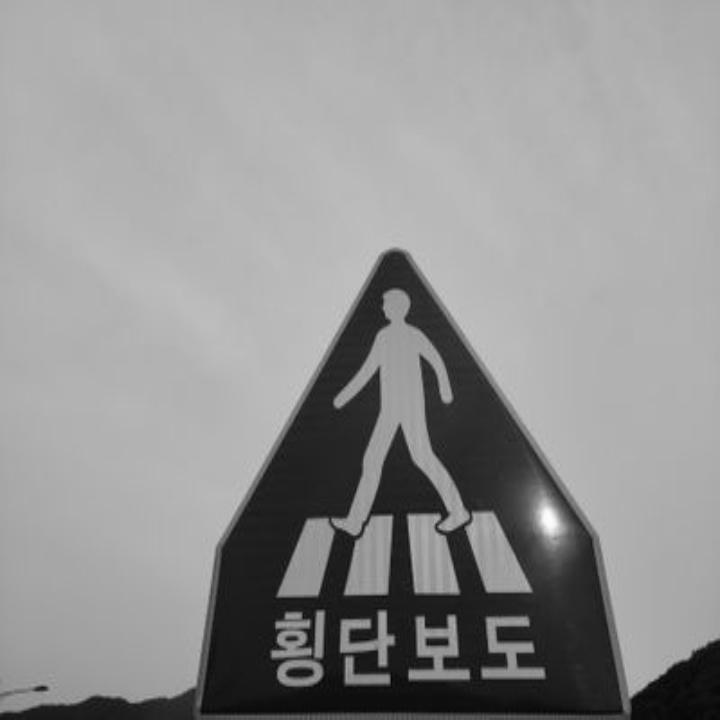cross: (251, 239, 563, 618)
